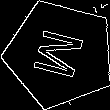M_E: (28, 25, 91, 83)
